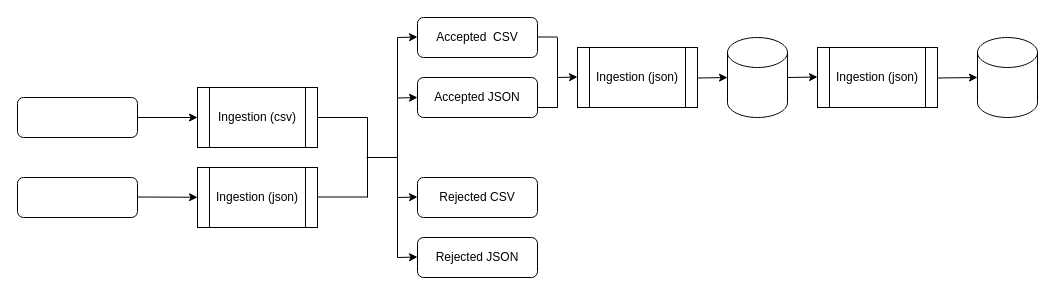
This 1055x295 diagram has some shape labels left out. The centre of each missing label's shape, as x and y in pixels:
EOD Trade Quote: pixel 757 77
quote- trade- analytical: pixel 1007 77
Source_1.csv: pixel 77 117
Source_2.csv: pixel 77 197
